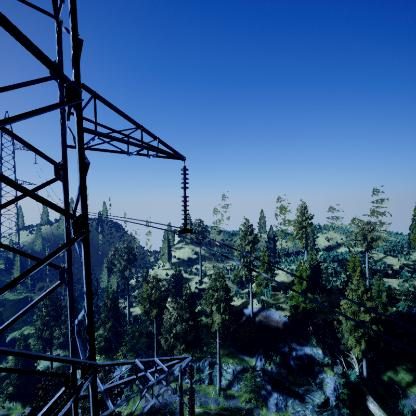insulator: (180, 166, 192, 232)
